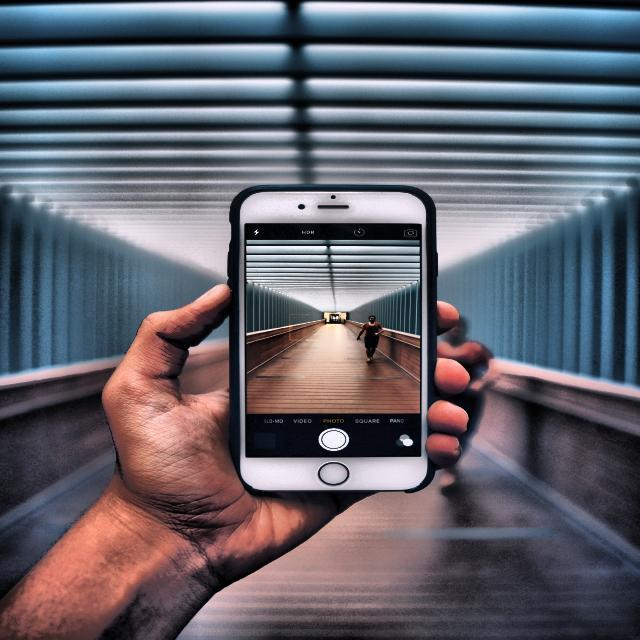Phone: (227, 182, 442, 496)
